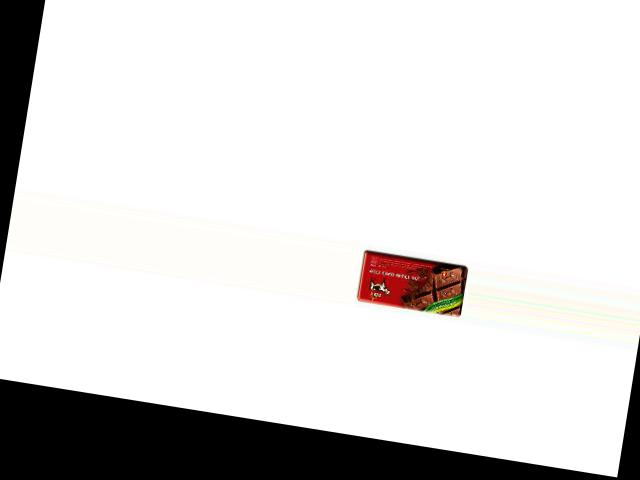chocolate: (354, 247, 469, 318)
